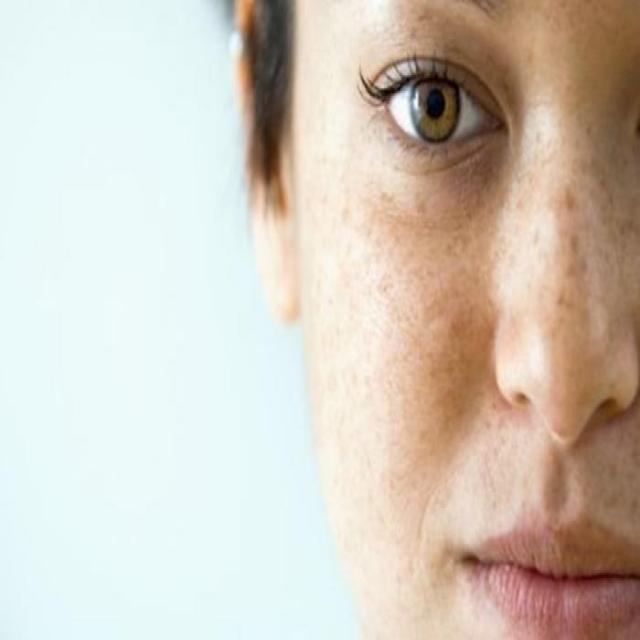Dark-Spots: (299, 84, 640, 564)
